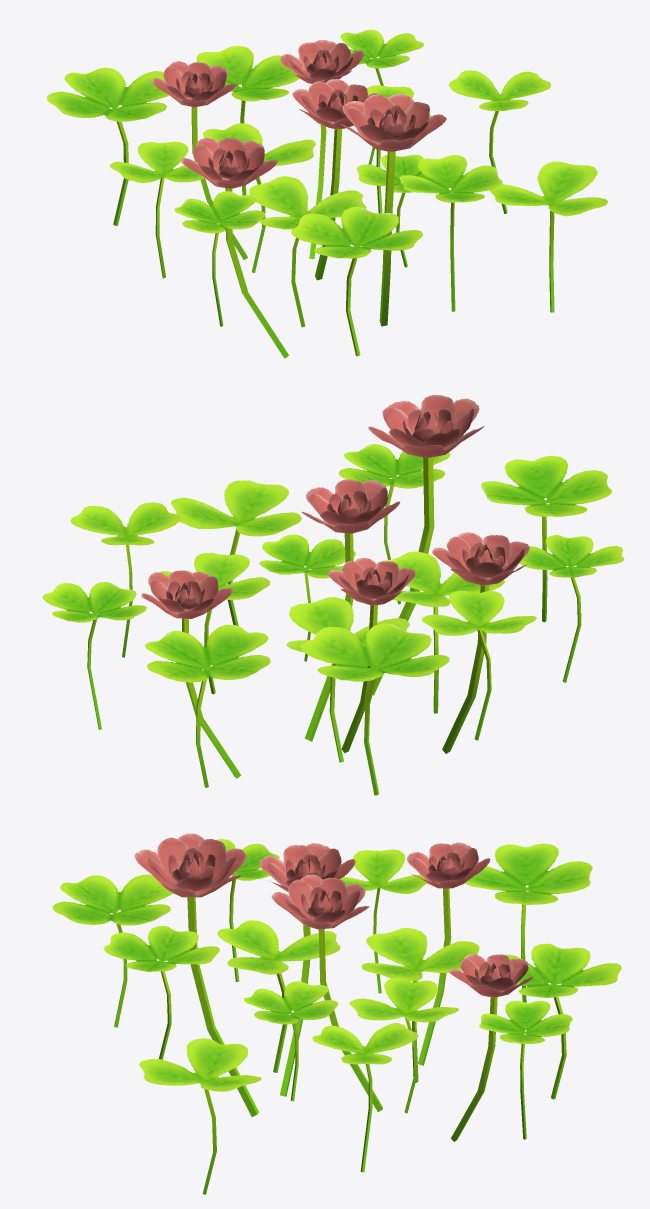
File: clover_pinkflowers.fbx
The picture shows the model from 3 angles, top to bottom: view 1: azimuth 30°, elevation 25°; view 2: azimuth 150°, elevation 25°; view 3: azimuth 270°, elevation 25°; orthographic projection. The views are drawn at different scales.
Parts seen in each view (by area): view 1: clover_pinkflowers; view 2: clover_pinkflowers; view 3: clover_pinkflowers.
Part boxes in pixels (left/top/right/bottom): clover_pinkflowers: left=47, top=29, right=607, bottom=358; clover_pinkflowers: left=42, top=394, right=624, bottom=795; clover_pinkflowers: left=52, top=833, right=621, bottom=1194.
Bounding box in the file's own units: 144 × 77.87 × 159.
